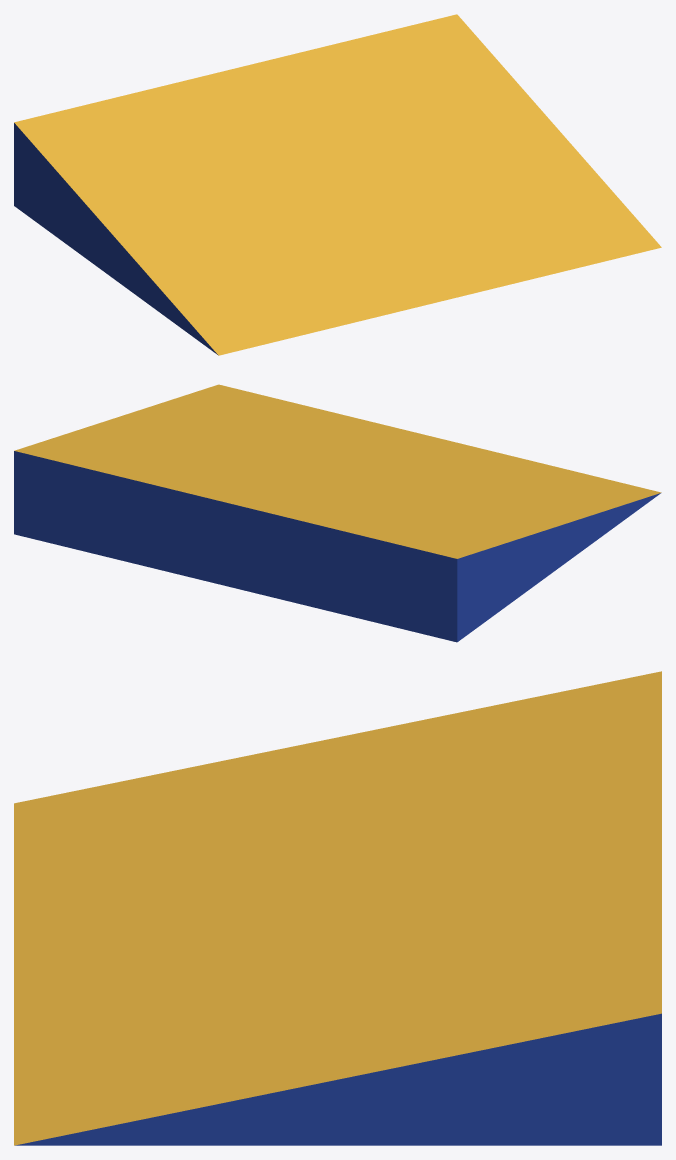
The model's file is skate_bank.glb.
3 renders of one model, top to bottom at view 1: azimuth 30°, elevation 25°; view 2: azimuth 150°, elevation 25°; view 3: azimuth 270°, elevation 25°, orthographic. The views are drawn at different scales.
Visible parts, largest first — view 1: skate_bank; view 2: skate_bank; view 3: skate_bank.
Part boxes in pixels (<box>): skate_bank: <box>14,14,661,355</box>; skate_bank: <box>14,384,661,642</box>; skate_bank: <box>14,671,661,1145</box>.
Bounding box in the file's own units: 4 × 0.72 × 3.2.
